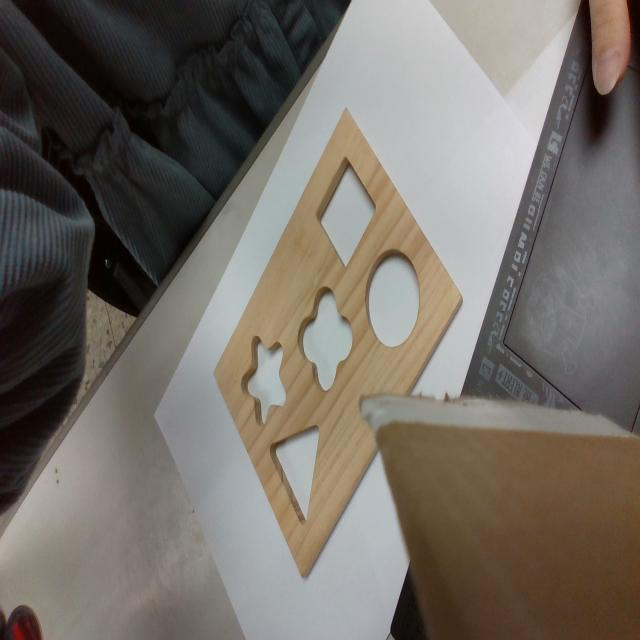circle: (365, 252, 420, 346)
flower: (296, 284, 352, 389)
square: (316, 161, 379, 268)
star: (242, 334, 289, 423)
triangle: (267, 421, 320, 527)
